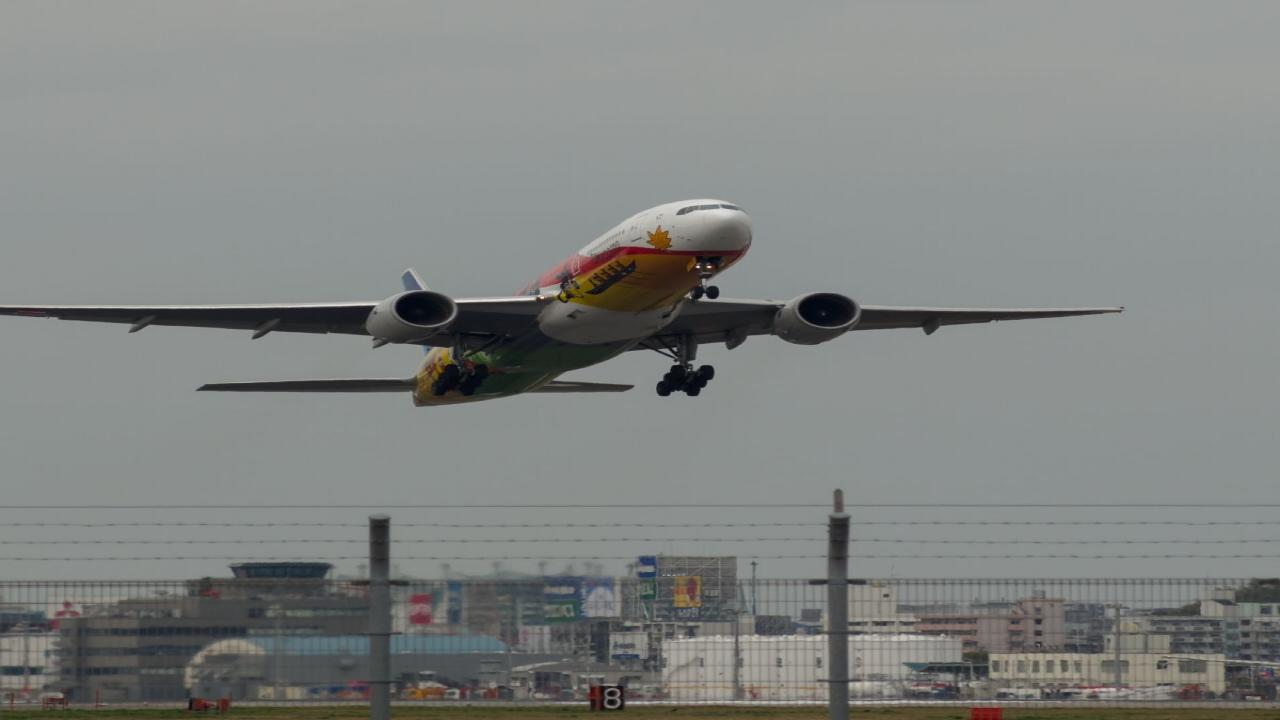Airplane: (0, 184, 1156, 422)
